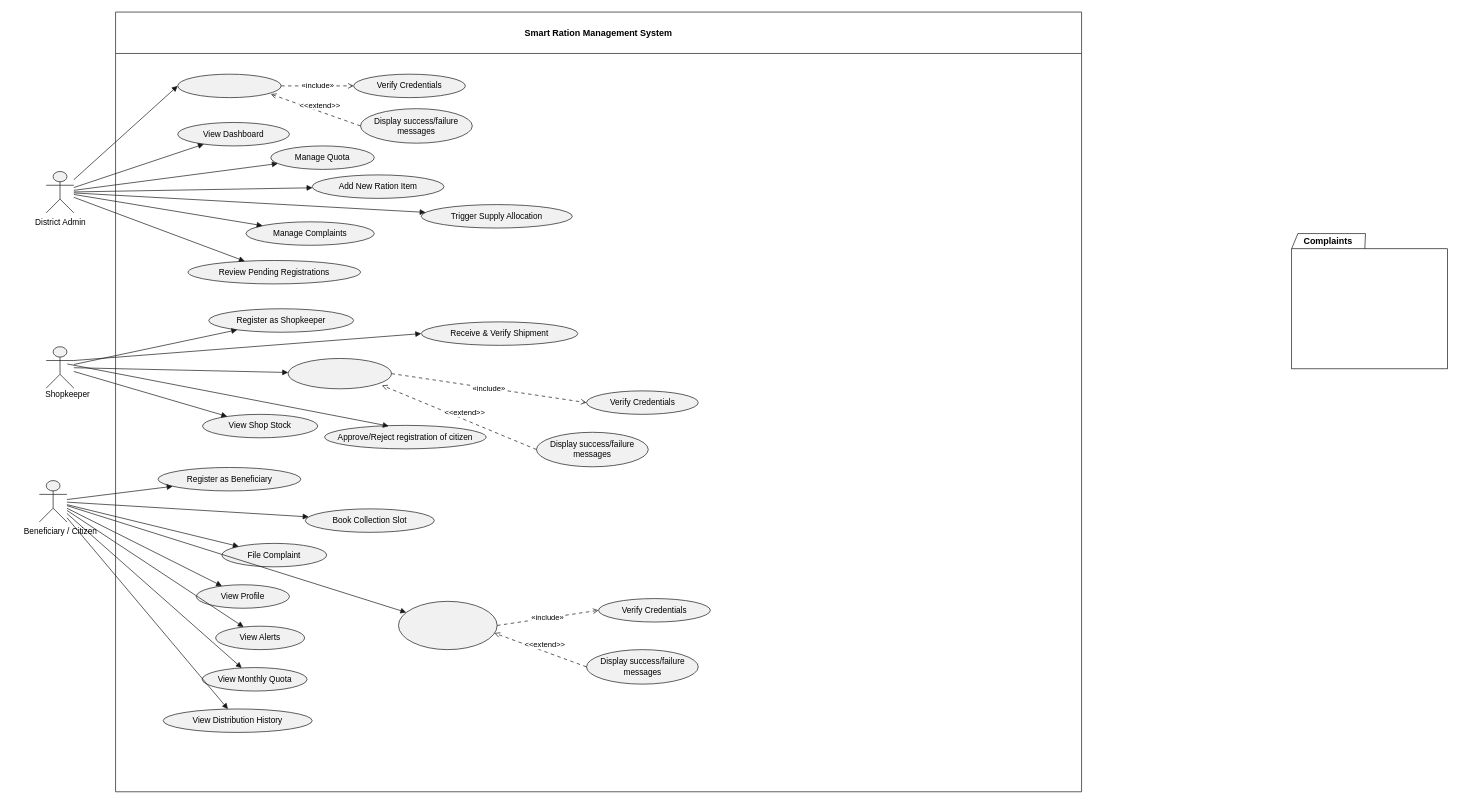
Some shapes in this 1459 by 804 pixel diagram are drawn without their labels. The shapes that lost their labels are listed below. From the top down, each one's centre as x and y in pixels, then its label:
At pixel 229 85: "Login as admin".
At pixel 339 373: "Login as Shopkeeper".
At pixel 447 625: "Login as Citizen".
